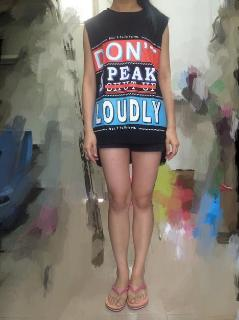vest dress: (85, 4, 172, 167)
